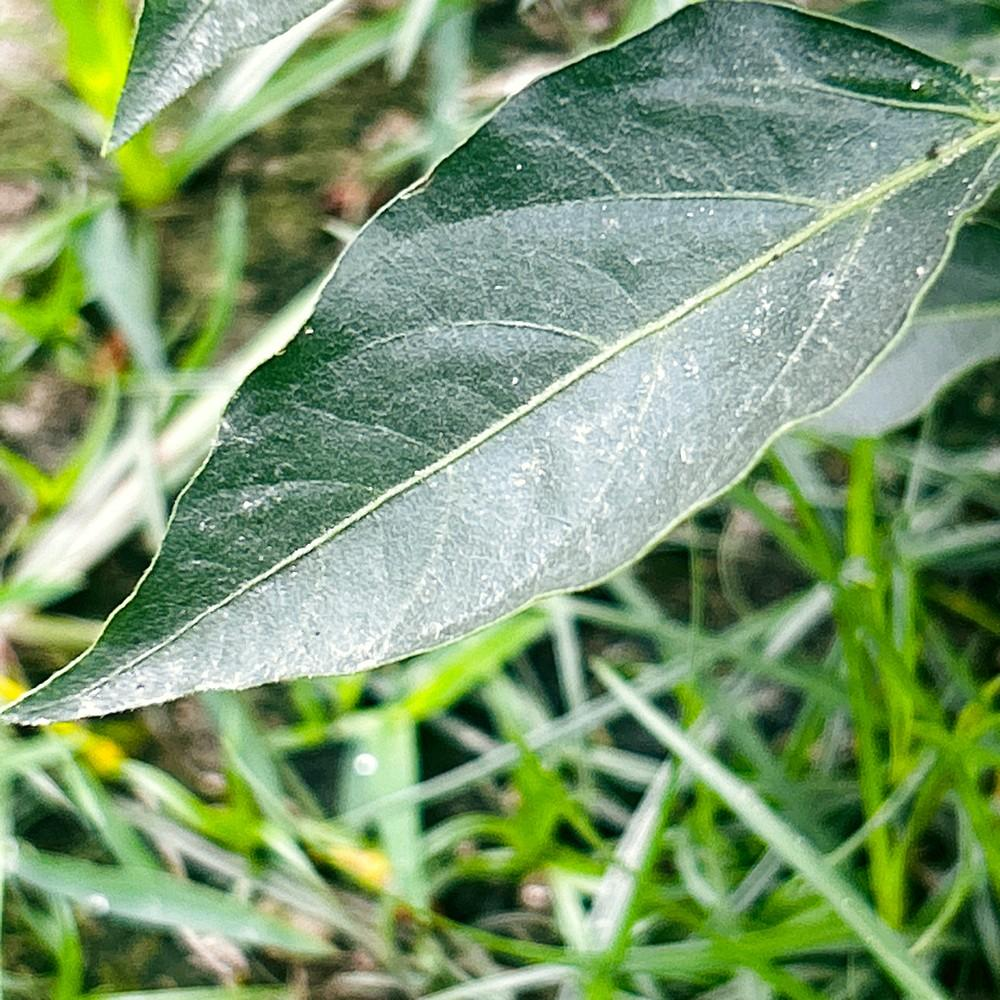Daun Cabai Sehat: (1, 0, 999, 729)
